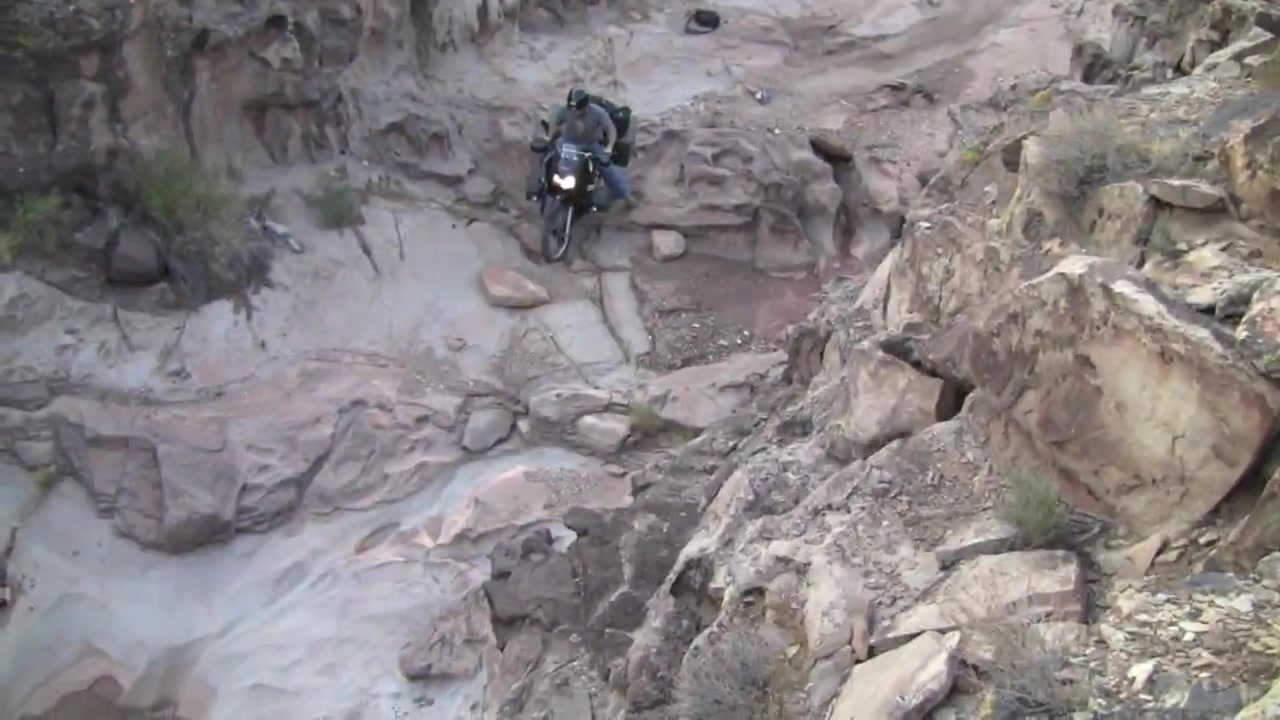motorbike: (529, 93, 637, 267)
